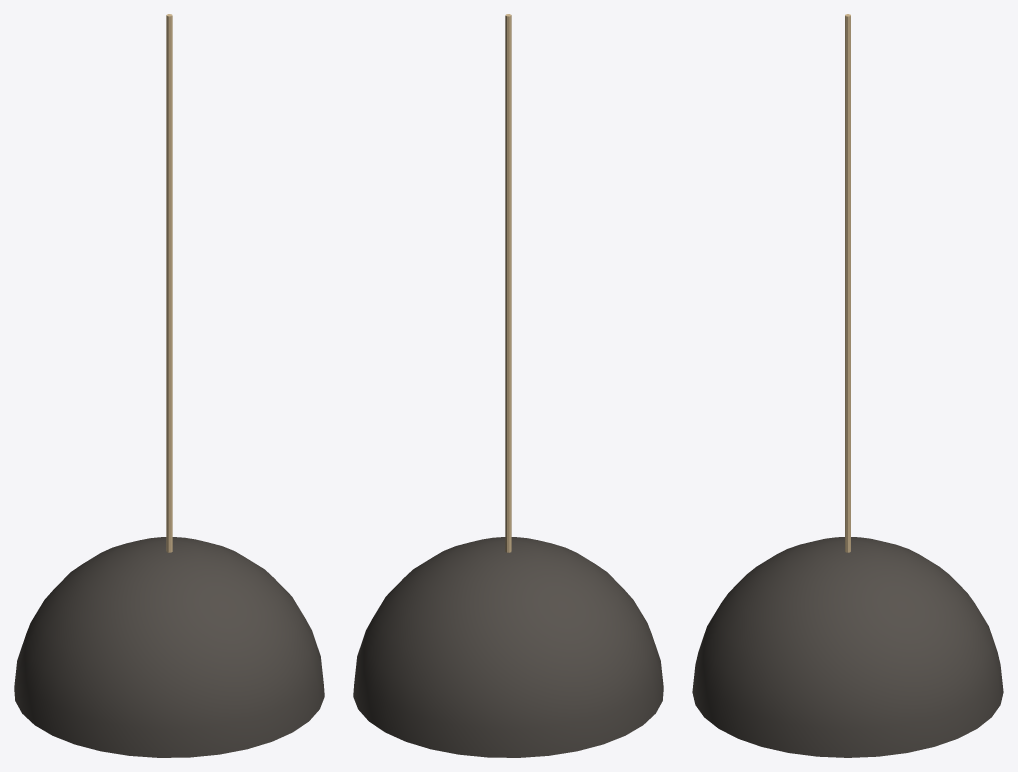
File: lampara-colgante.gltf
The picture shows the model from 3 angles, left to right: view 1: azimuth 30°, elevation 25°; view 2: azimuth 150°, elevation 25°; view 3: azimuth 270°, elevation 25°; orthographic projection.
Parts seen in each view (by area): view 1: cupula, cable; view 2: cupula, cable; view 3: cupula, cable.
Boxes of the visible parts, x1,y1,x2,y2 form: cupula: [14, 537, 324, 757]; cable: [166, 14, 172, 552]; cupula: [353, 537, 663, 757]; cable: [505, 14, 511, 552]; cupula: [692, 537, 1003, 757]; cable: [845, 14, 850, 552].
Size of the model in its own units: 0.4 by 0.9608 by 0.4.
